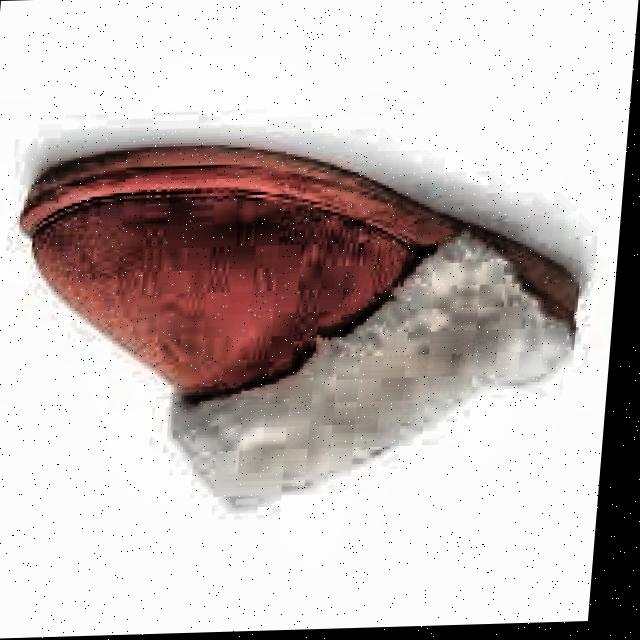shoes: (0, 128, 605, 520)
